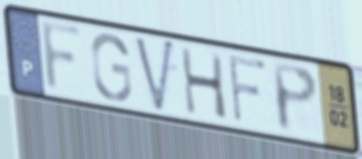F: (38, 18, 86, 96), (226, 51, 270, 127)
G: (88, 31, 134, 104)
H: (178, 44, 230, 123)
P: (269, 60, 321, 137)
V: (131, 33, 177, 117)
